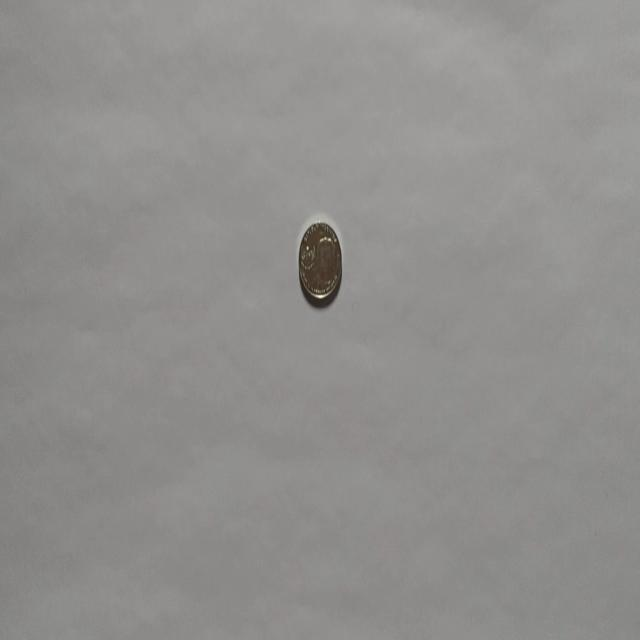seratus rupiah: (298, 218, 342, 304)
